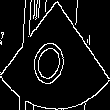O_NE: (31, 21, 79, 88)
